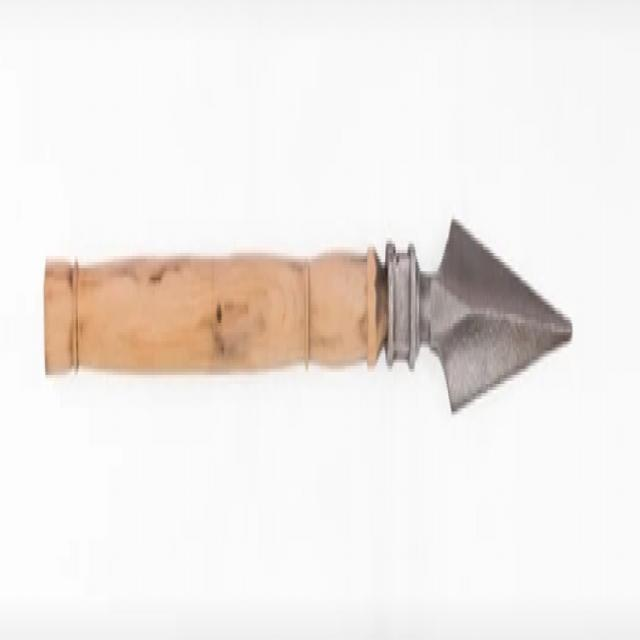spear: (36, 191, 585, 469)
